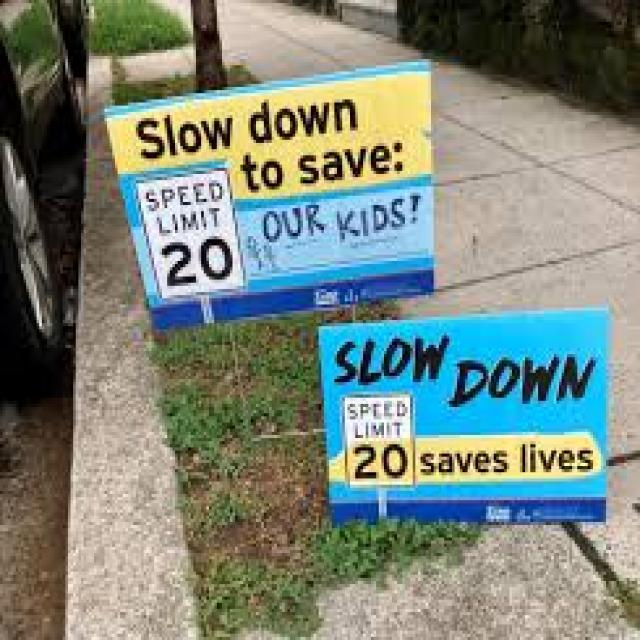speedLimit20: (137, 172, 242, 297), (345, 394, 413, 488)
